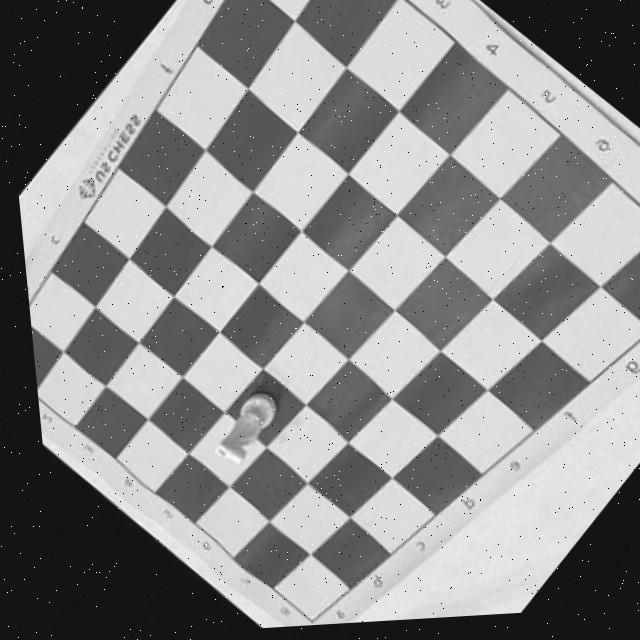chessboard: (23, 0, 640, 625)
